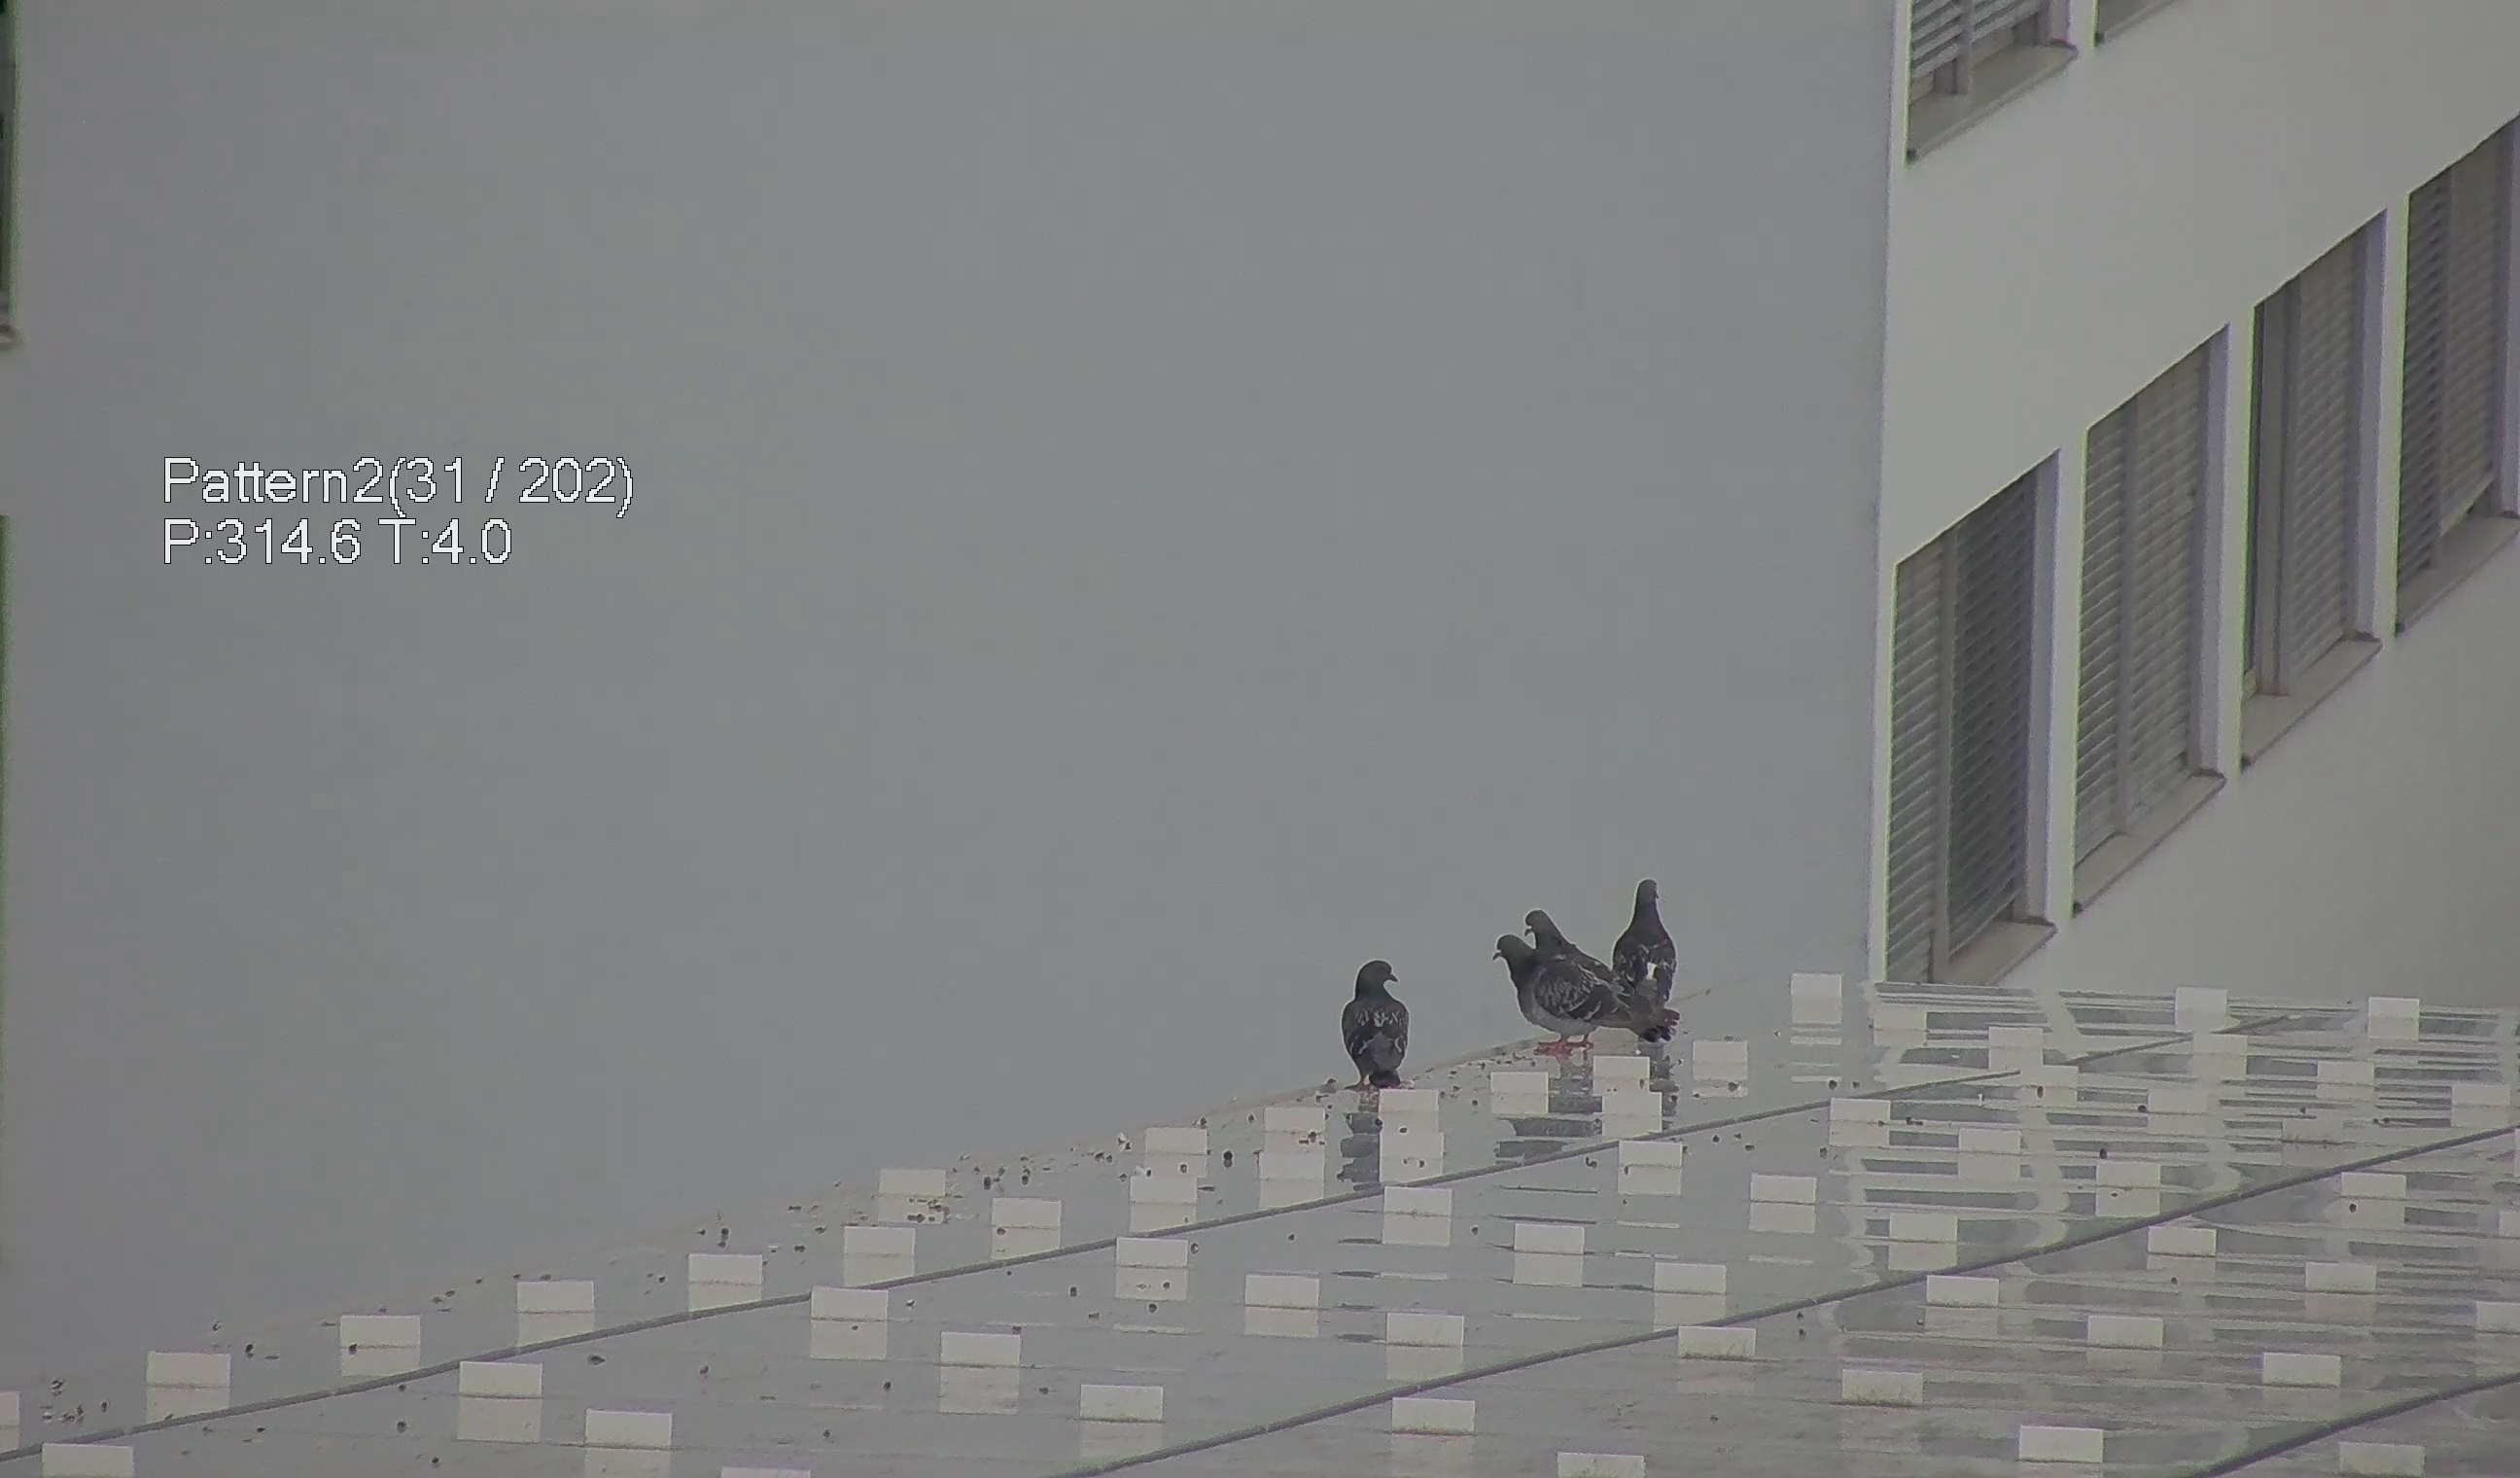Pigeon: (1493, 889, 1678, 1061), (1609, 867, 1688, 1045), (1335, 948, 1421, 1100), (1514, 890, 1579, 957)
